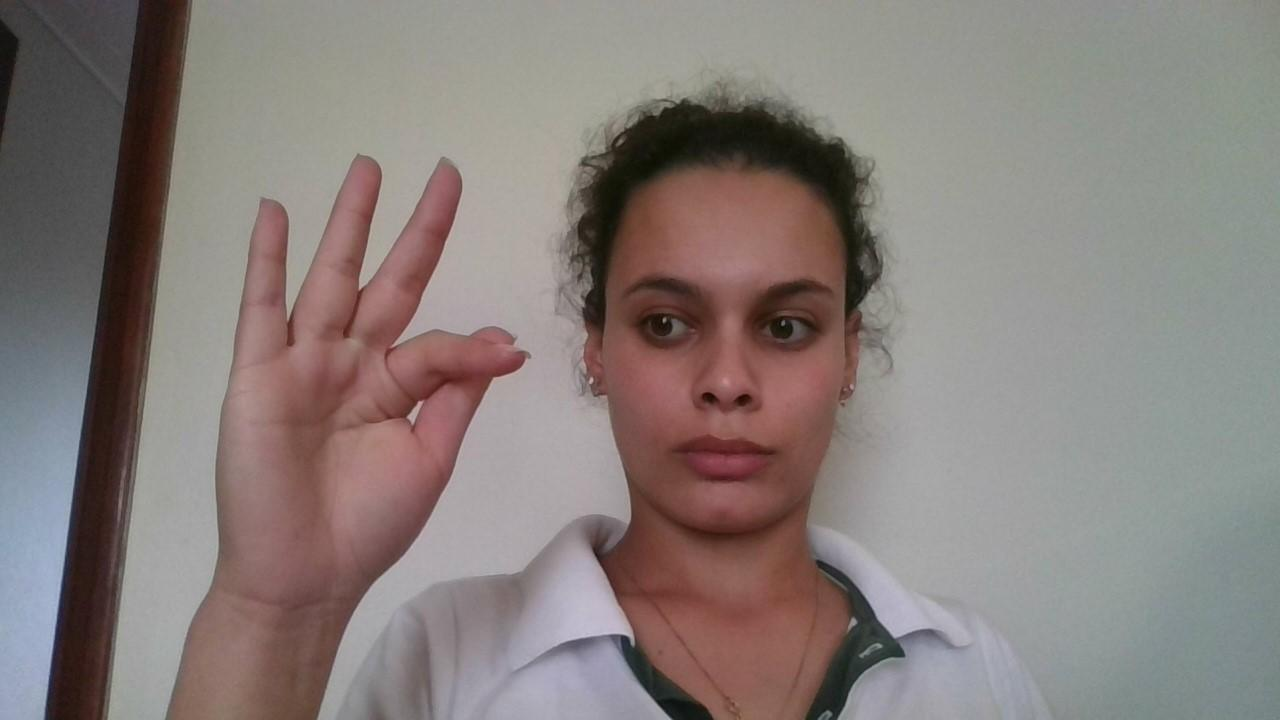F: (218, 144, 530, 588)
